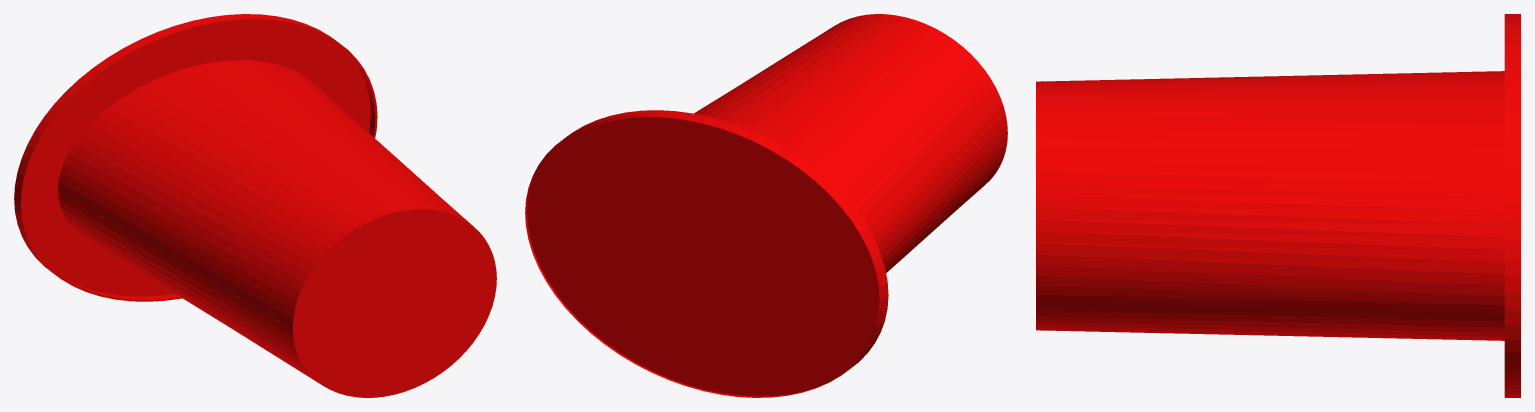
3 renders of one model, left to right at view 1: azimuth 30°, elevation 25°; view 2: azimuth 150°, elevation 25°; view 3: azimuth 270°, elevation 25°, orthographic. The views are drawn at different scales.
Size of the model in its own units: 182 by 131 by 179.
